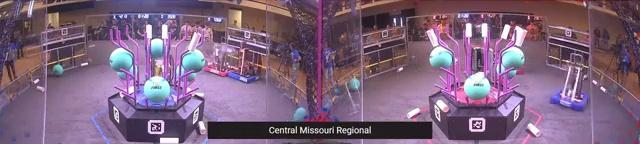reef: (427, 24, 528, 140), (109, 26, 206, 141)
robot: (550, 52, 590, 111), (228, 47, 263, 86), (205, 45, 237, 77)
